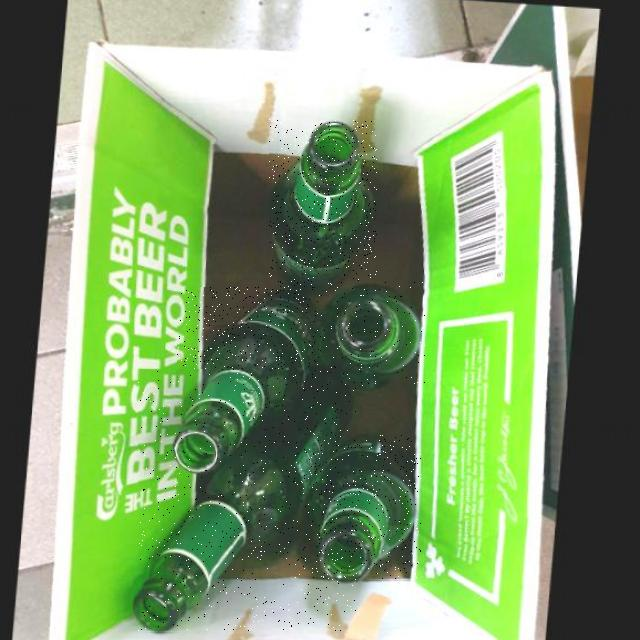glass: (139, 370, 356, 632), (178, 287, 323, 473), (269, 120, 377, 291), (312, 435, 421, 580), (319, 282, 425, 386)
